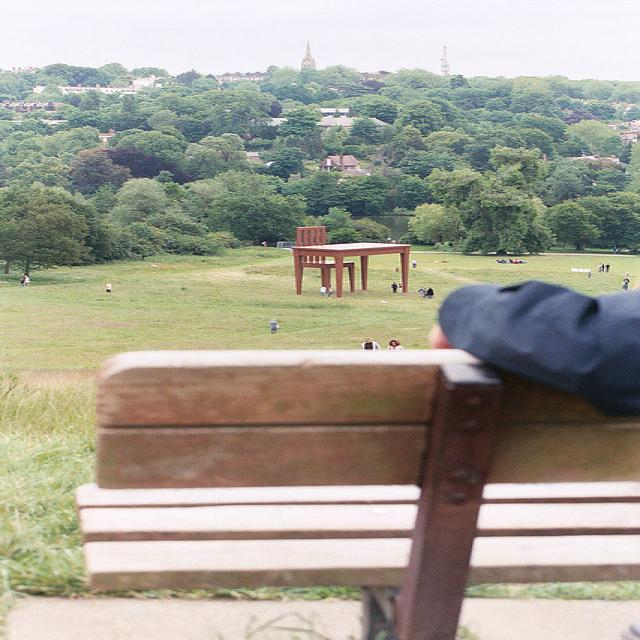chair: (298, 226, 355, 292)
dining table: (289, 240, 413, 297)
